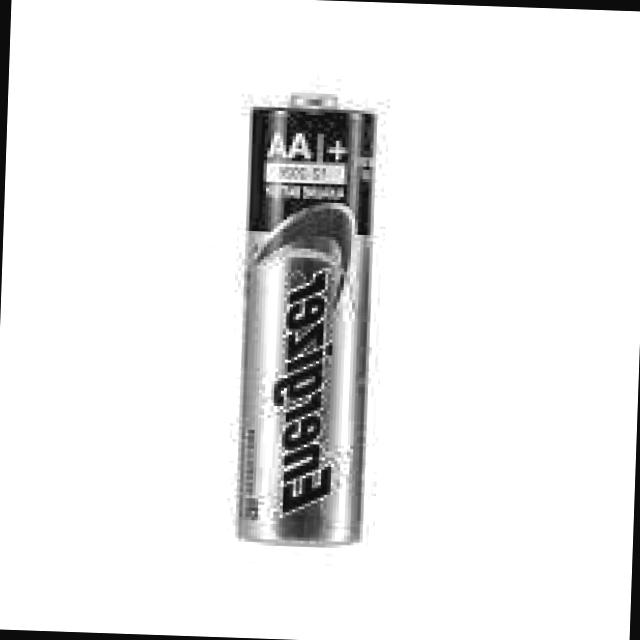Battery: (234, 94, 374, 542)
